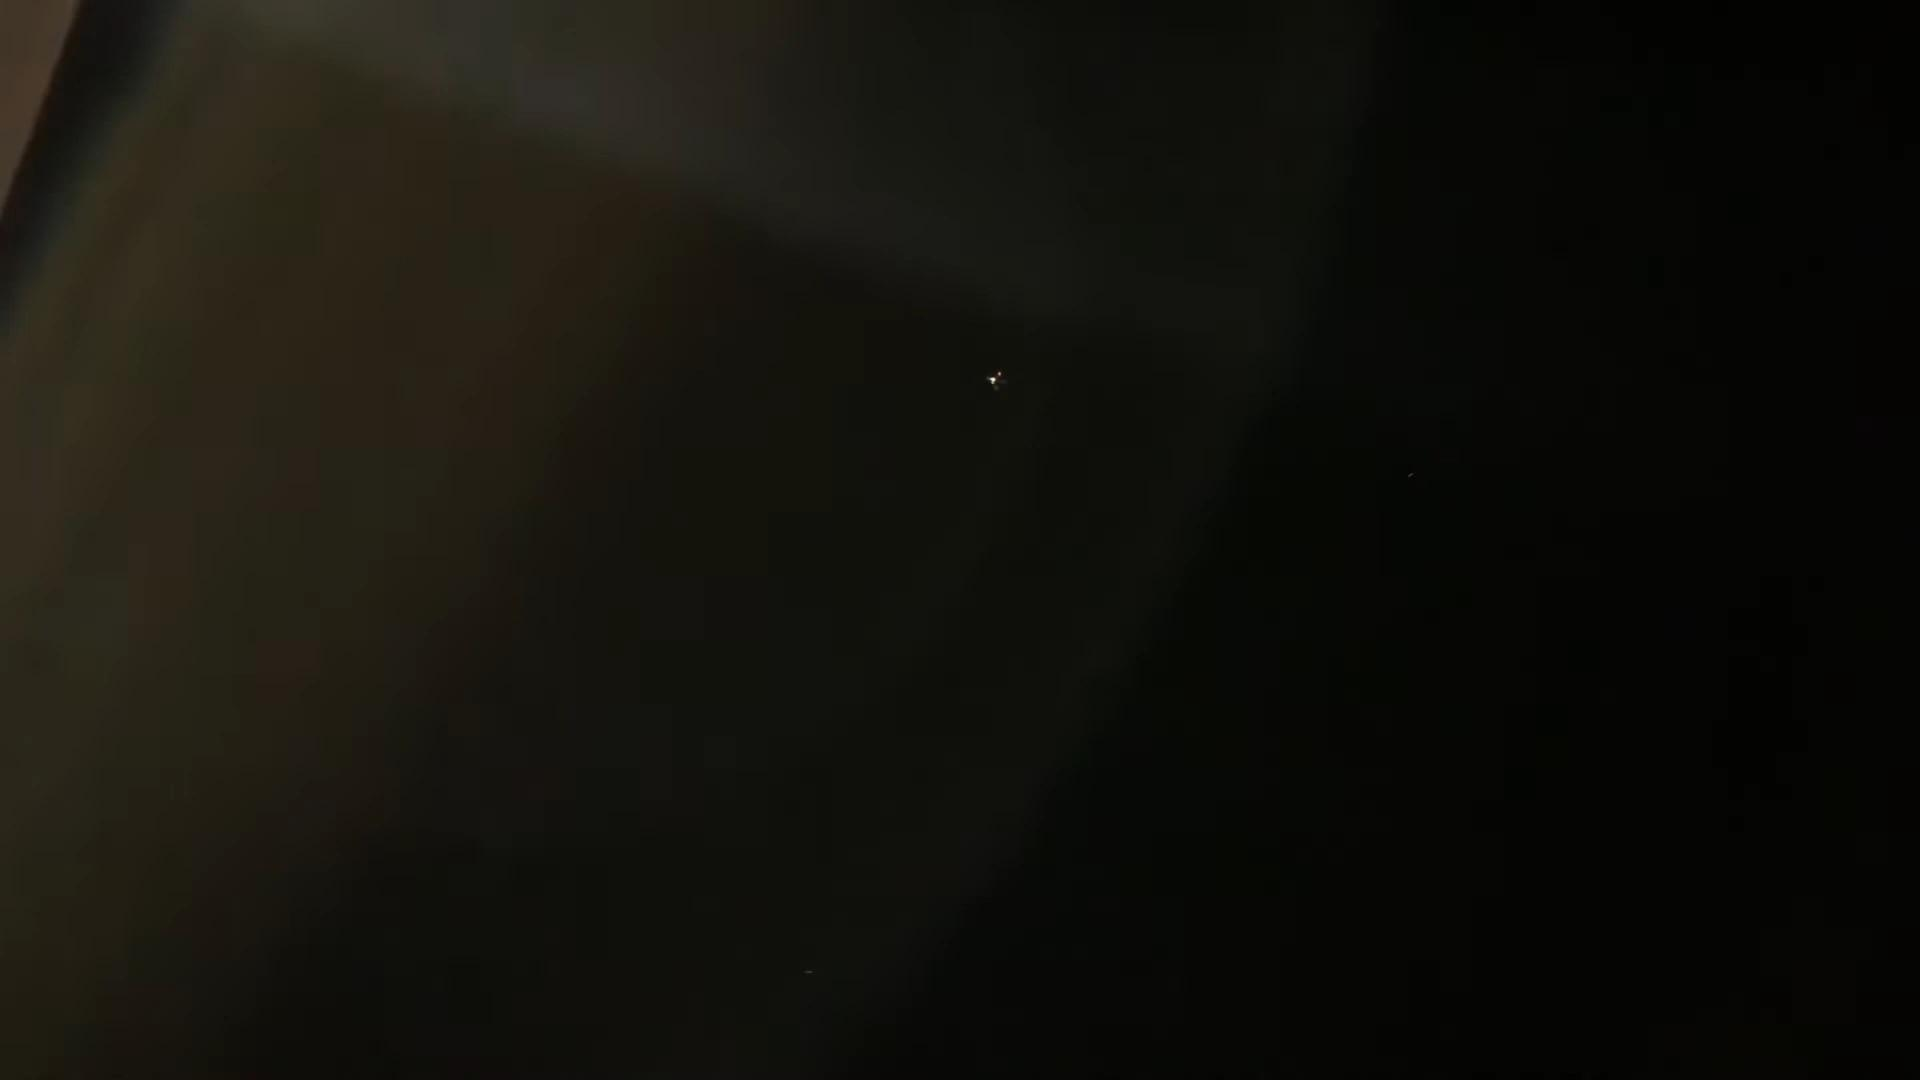Plane: (976, 353, 1019, 405)
